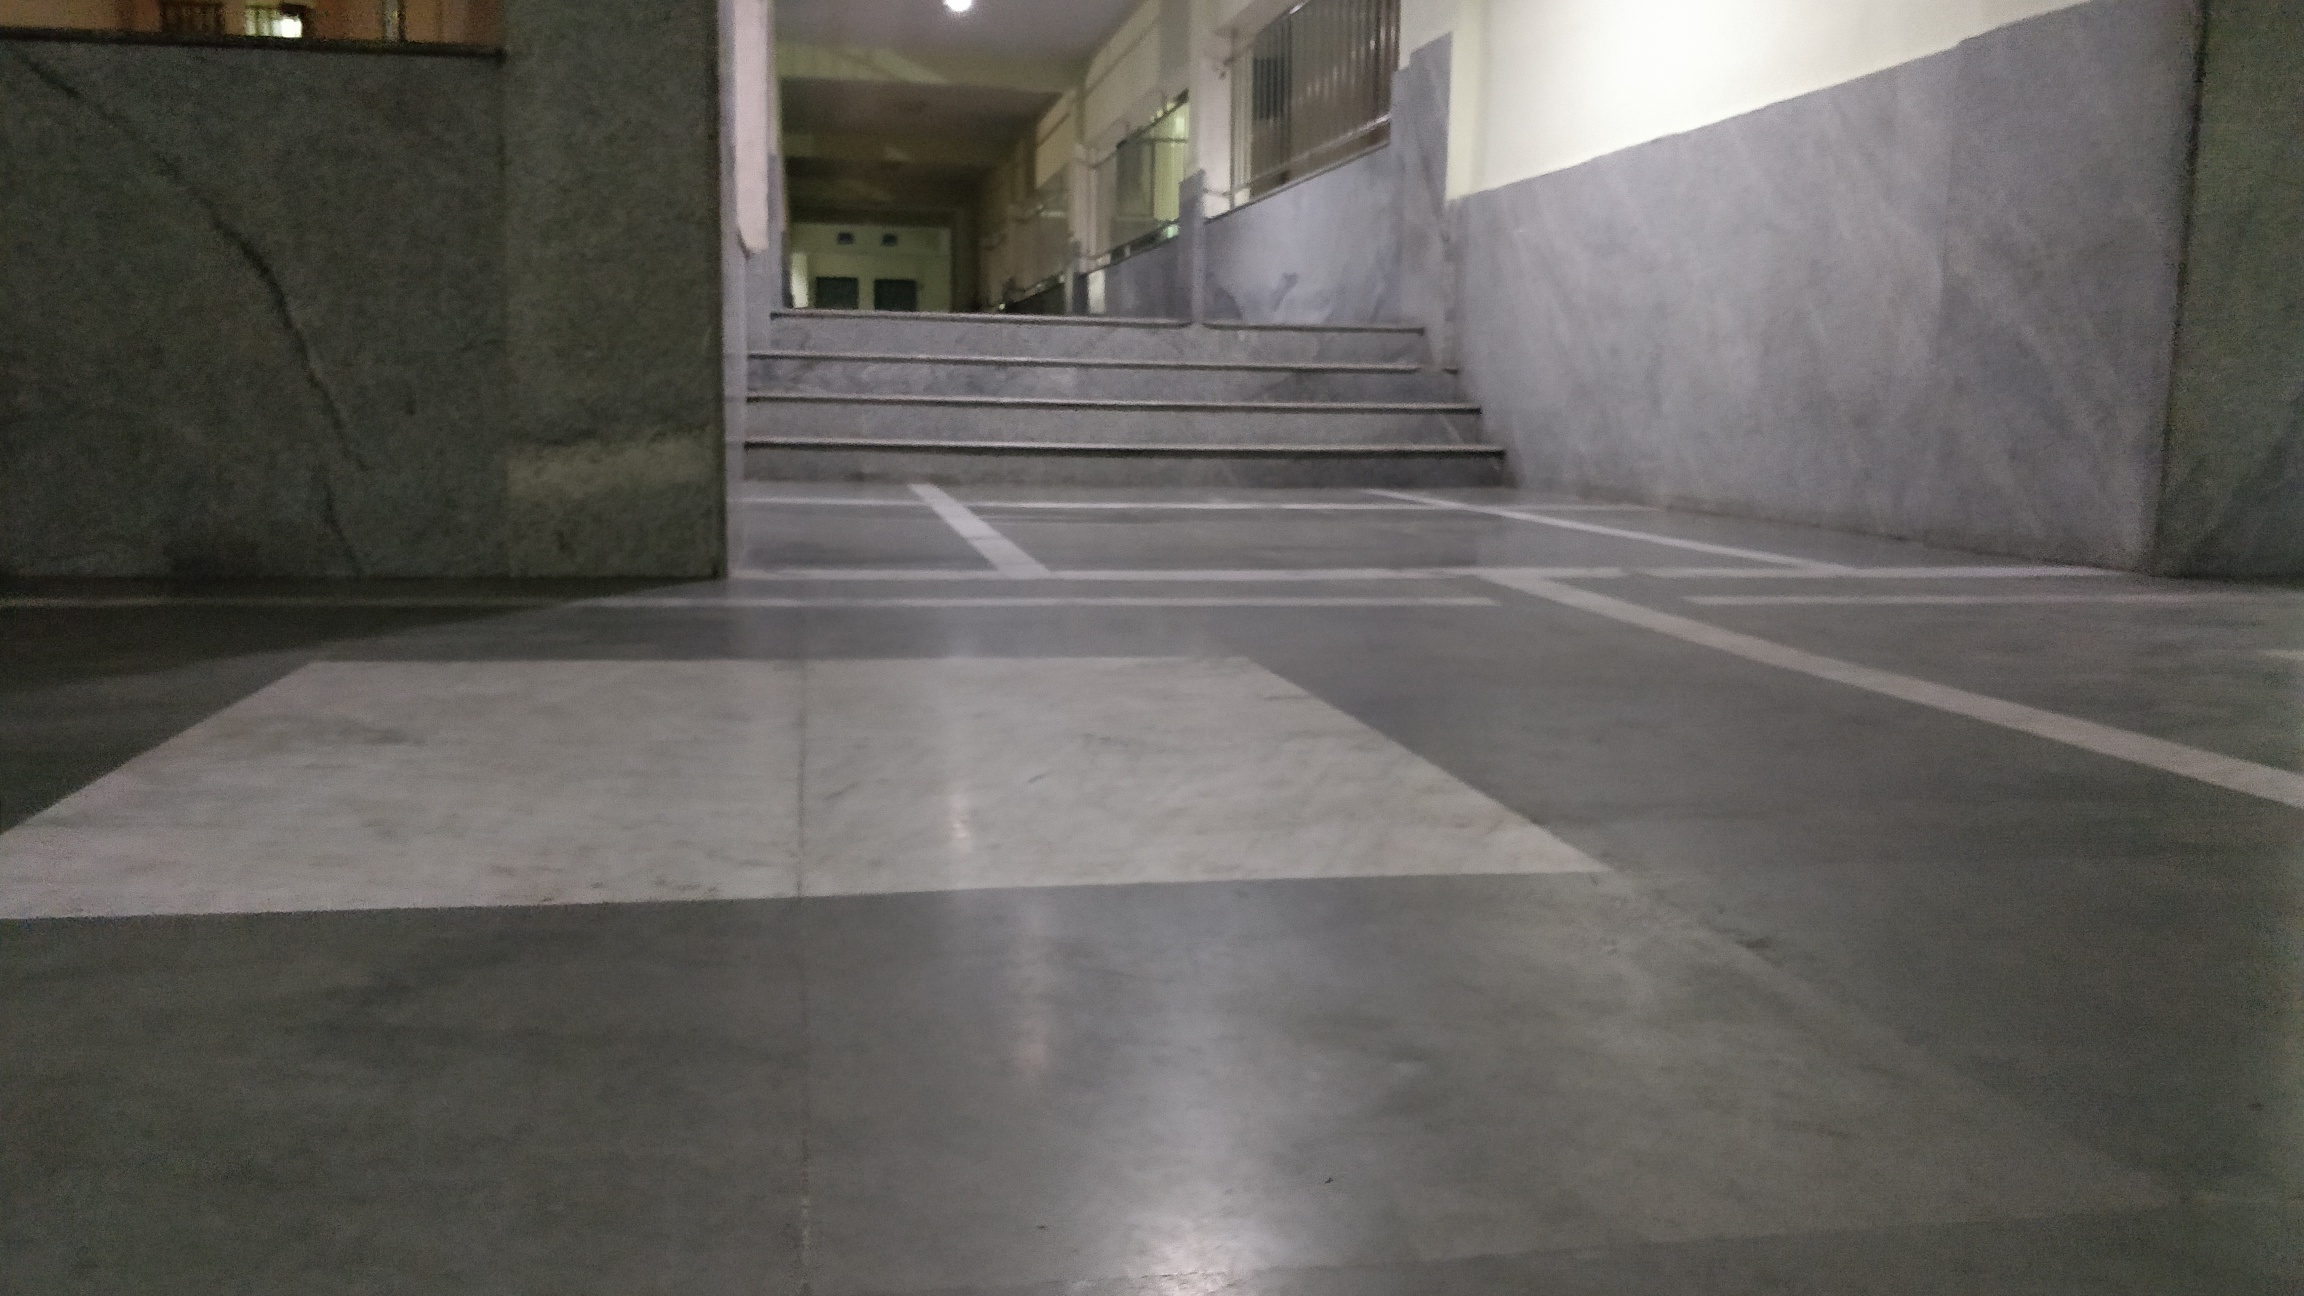stairs_up: (756, 307, 1489, 491)
